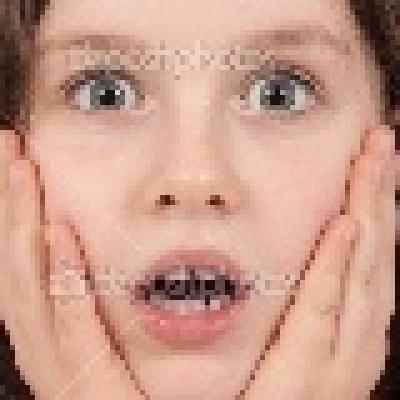surprise: (32, 2, 376, 394)
